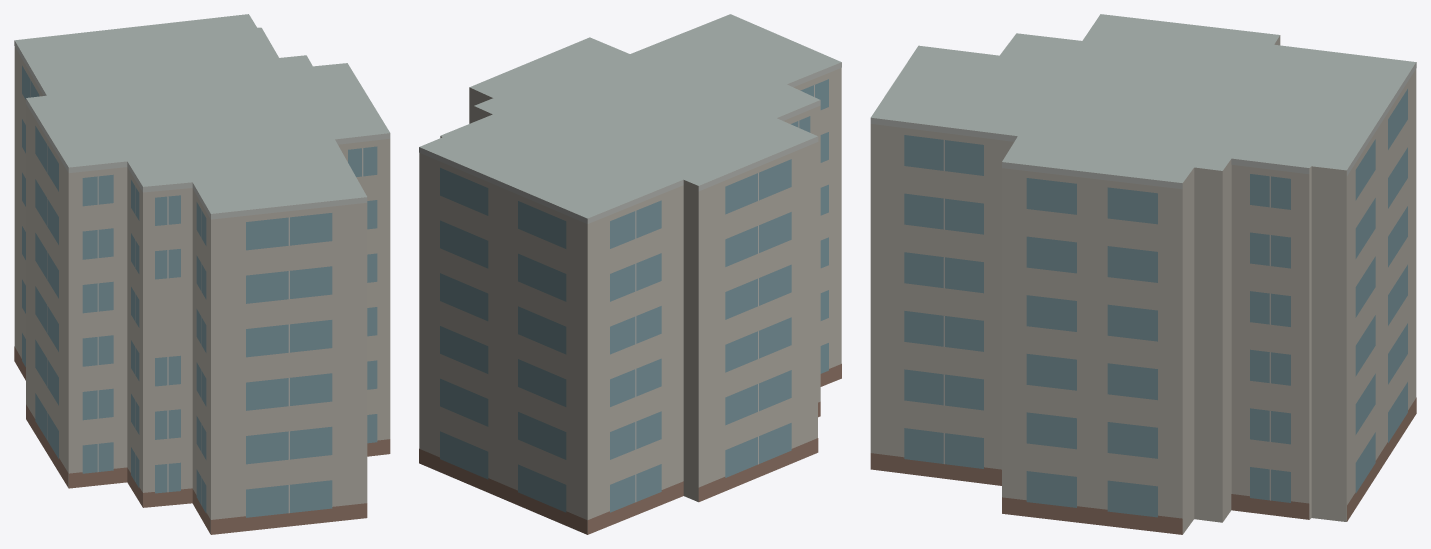
Rendered from survey-upis-32720840.glb.
3 renders of one model, left to right at view 1: azimuth 30°, elevation 25°; view 2: azimuth 150°, elevation 25°; view 3: azimuth 270°, elevation 25°, orthographic. The views are drawn at different scales.
Parts seen in each view (by area): view 1: survey-upis-32720840.tmp; view 2: survey-upis-32720840.tmp; view 3: survey-upis-32720840.tmp.
Part boxes in pixels (bbox=[...]): survey-upis-32720840.tmp: bbox=[14, 14, 390, 534]; survey-upis-32720840.tmp: bbox=[419, 14, 841, 534]; survey-upis-32720840.tmp: bbox=[870, 14, 1416, 534].
Bounding box in the file's own units: 14.35 × 13.9 × 19.56.
